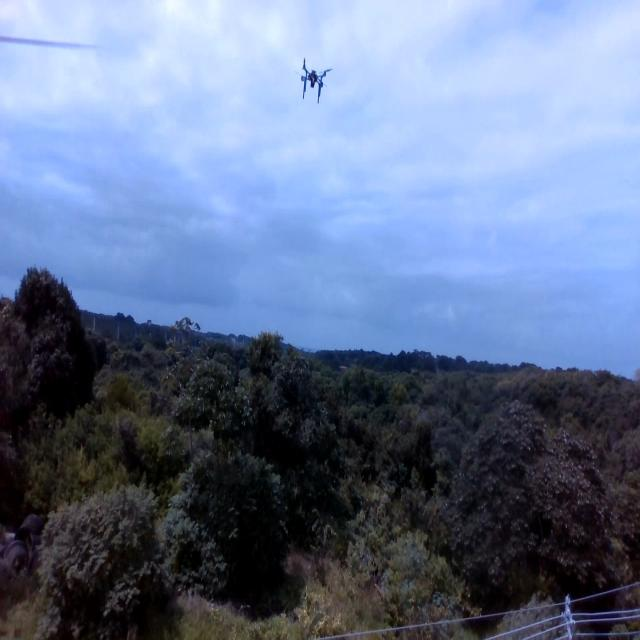-uav-: (298, 54, 334, 115)
